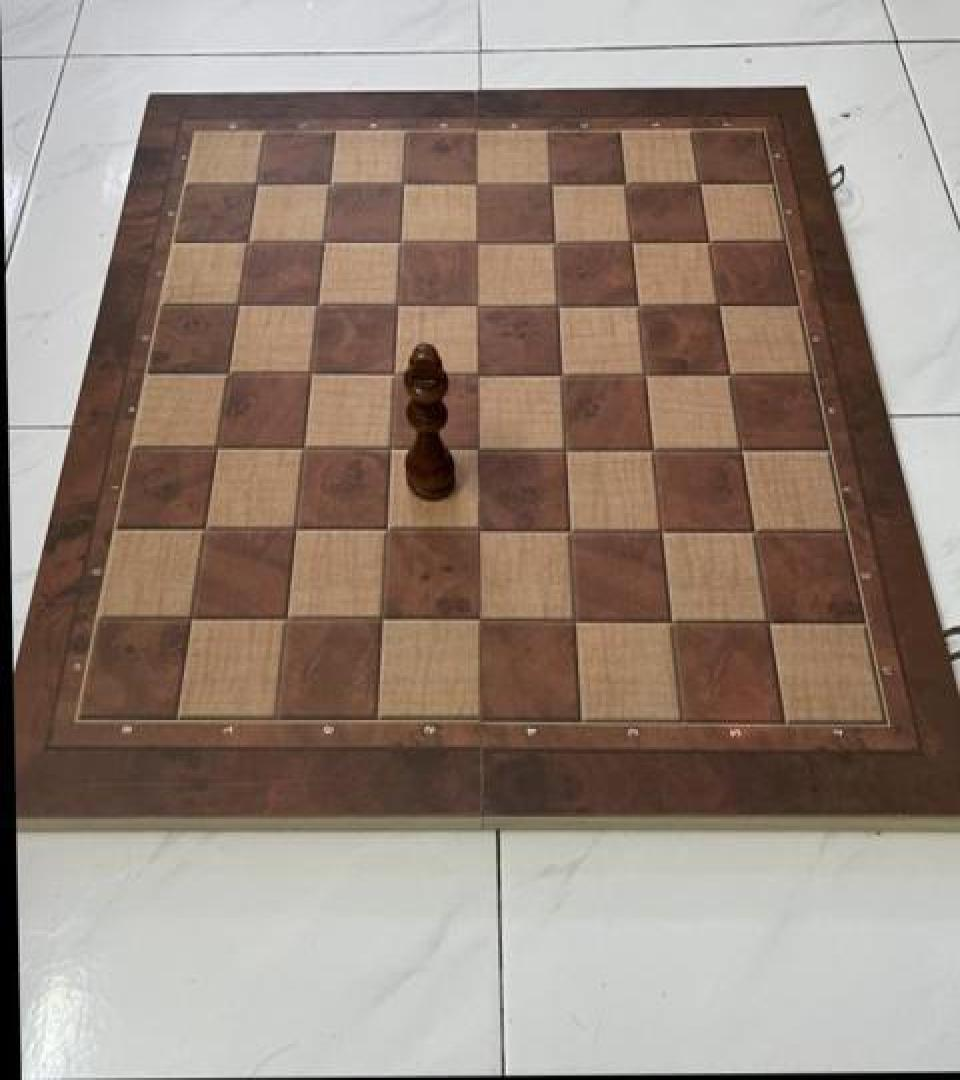xcorner: (238, 168, 272, 206), (312, 168, 346, 206), (387, 166, 421, 204), (461, 166, 495, 204), (535, 166, 569, 204), (609, 166, 643, 204), (684, 166, 718, 204), (230, 225, 264, 263), (307, 225, 341, 263), (384, 225, 418, 263), (461, 225, 495, 263), (538, 225, 572, 263), (615, 224, 649, 262), (693, 224, 727, 262), (220, 288, 254, 326), (301, 288, 335, 326), (381, 288, 415, 326), (461, 288, 495, 326), (541, 288, 575, 326), (622, 287, 656, 325), (702, 287, 736, 325), (210, 357, 244, 395), (294, 357, 328, 395), (377, 357, 411, 395), (461, 356, 495, 394), (545, 356, 579, 394), (629, 356, 663, 394), (713, 356, 747, 394), (199, 431, 233, 469), (287, 431, 321, 469), (374, 431, 408, 469), (461, 430, 495, 468), (549, 430, 583, 468), (637, 430, 671, 468), (724, 430, 758, 468), (187, 512, 221, 550), (279, 512, 313, 550), (370, 512, 404, 550), (462, 512, 496, 550), (553, 512, 587, 550), (645, 512, 679, 550), (737, 512, 771, 550), (174, 601, 208, 639), (270, 601, 304, 639), (366, 601, 400, 639), (462, 601, 496, 639), (558, 601, 592, 639), (654, 601, 688, 639), (751, 601, 785, 639)
